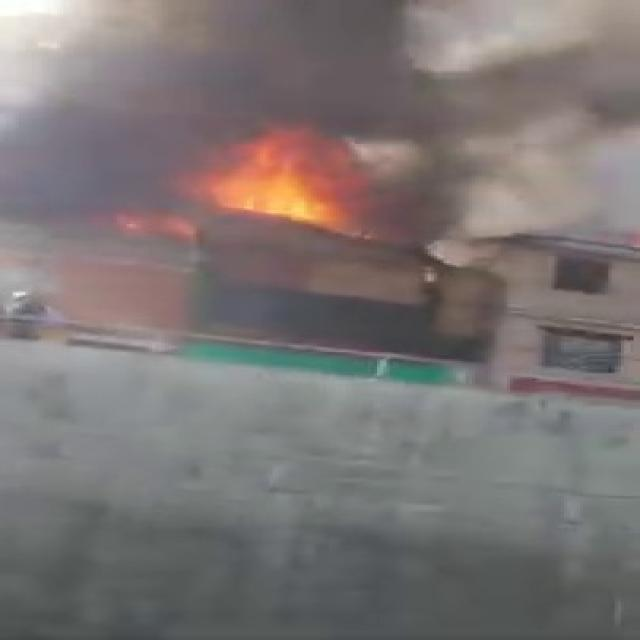Fire: (212, 121, 355, 267)
Smoke: (6, 5, 612, 258)
